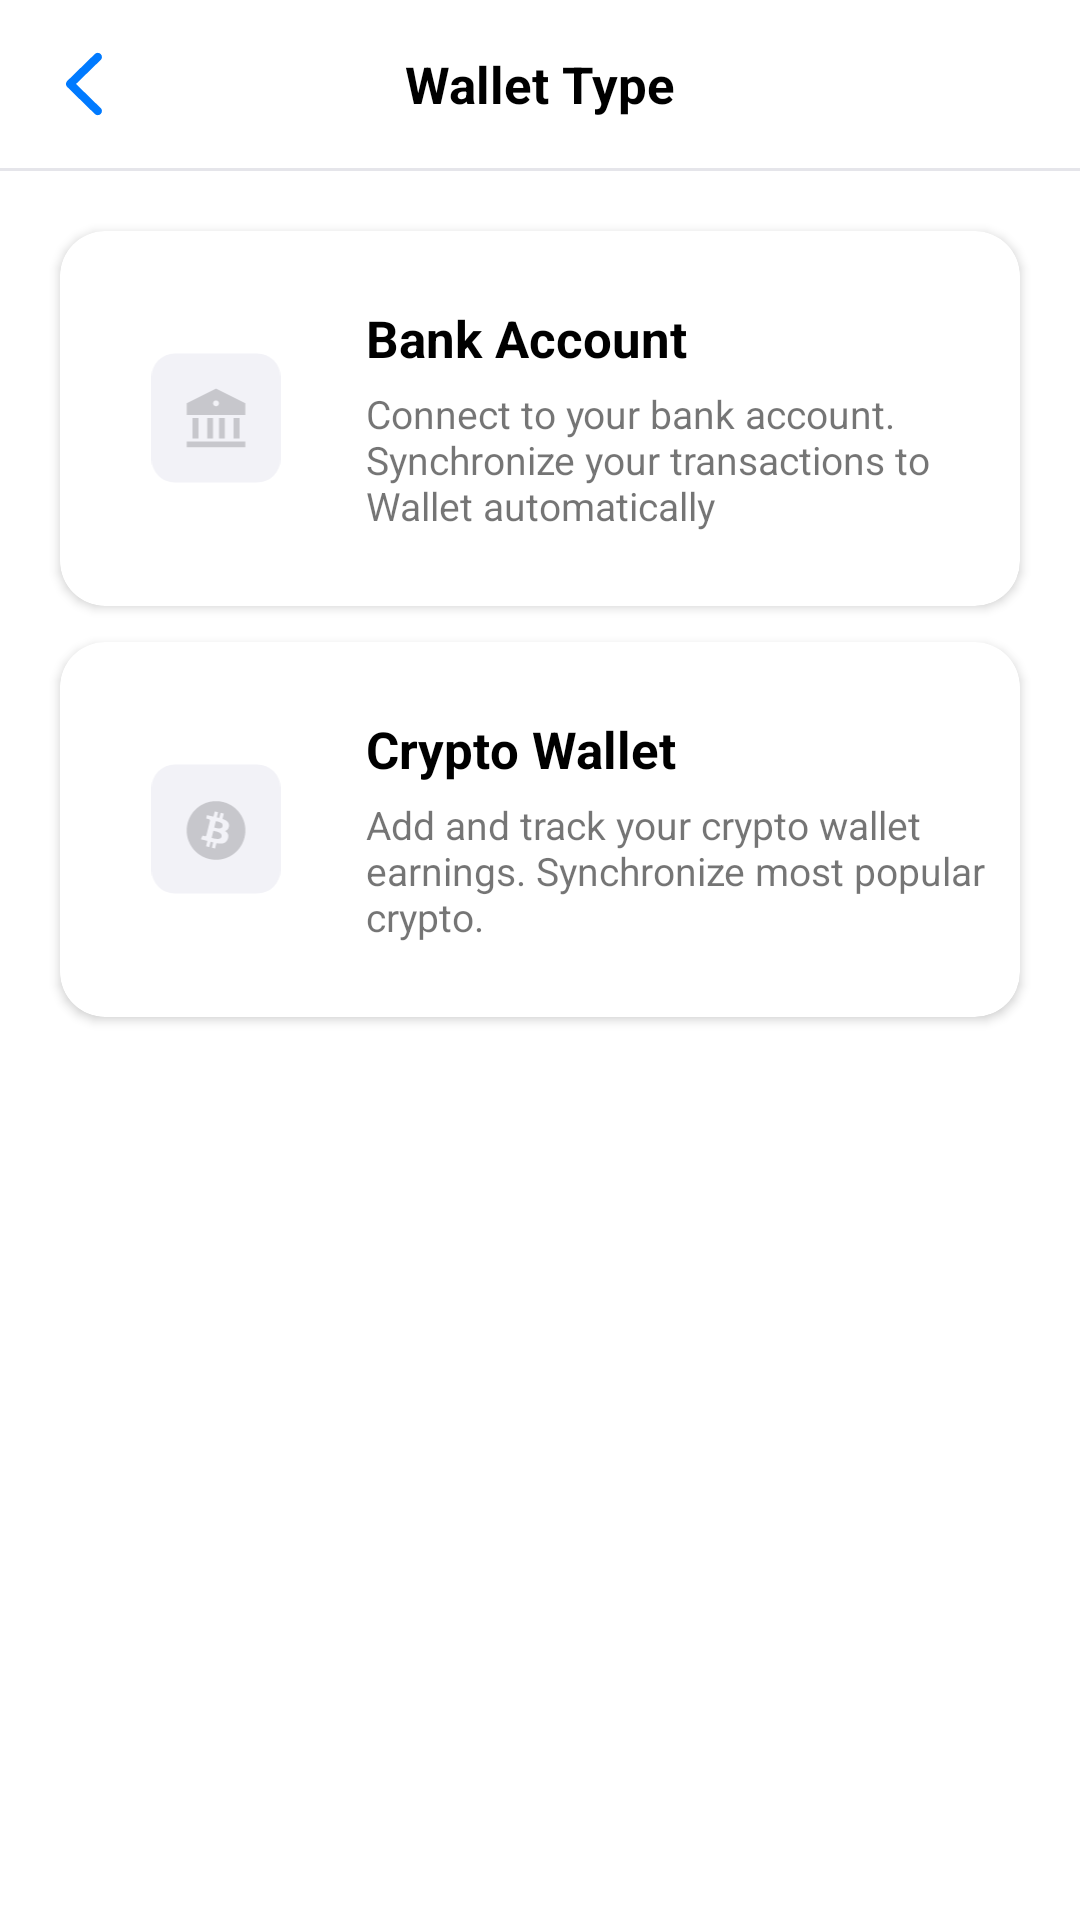

Where to tap for icons on this 1080 x 1920 app screen, as point (x, y):
type bank: point (216, 418)
